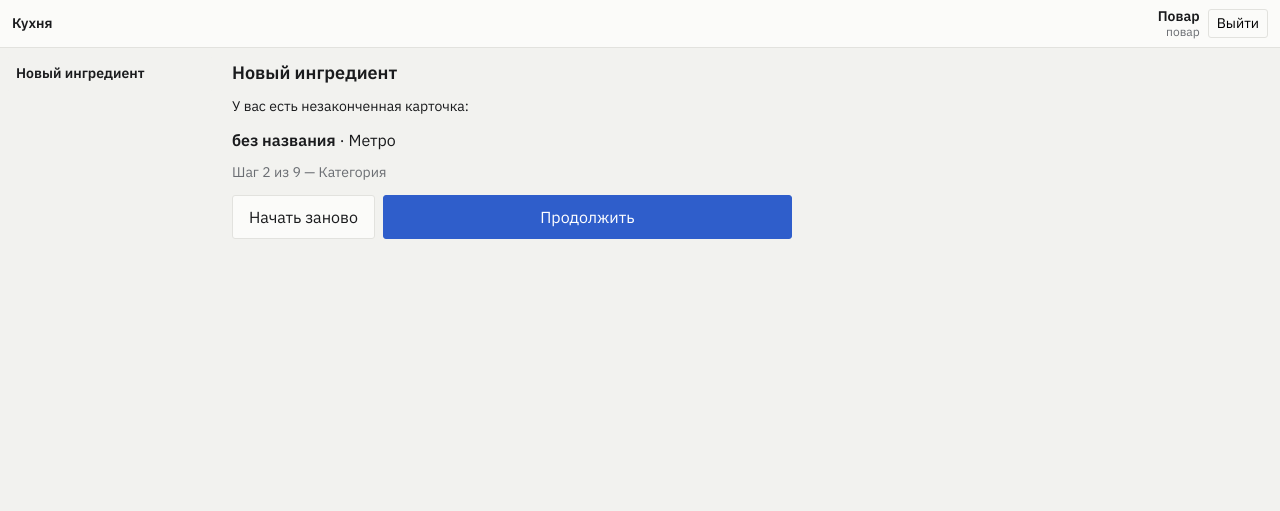
«Другая…» принимает свою категорию
Click the button "Продолжить" at (587, 217), box [383,195,792,239]
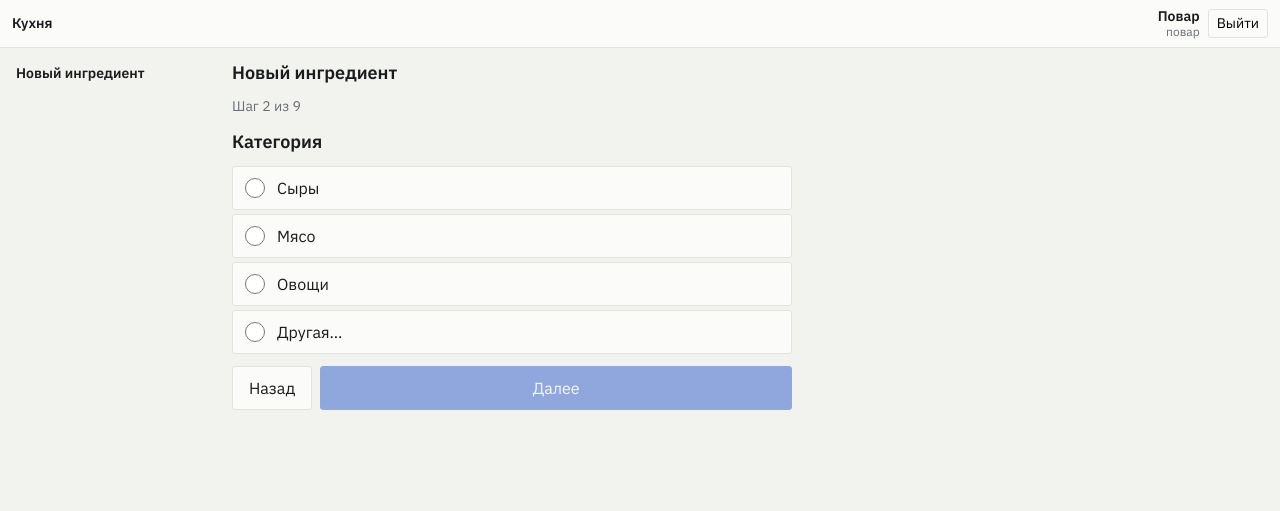
Now the radio button labelled "Сыры" is shown, box [245,178,265,198]
Now the button "Далее" is disabled, box [320,366,792,410]
Click the radio button labelled "Другая…" at (255, 332), box [245,322,265,342]
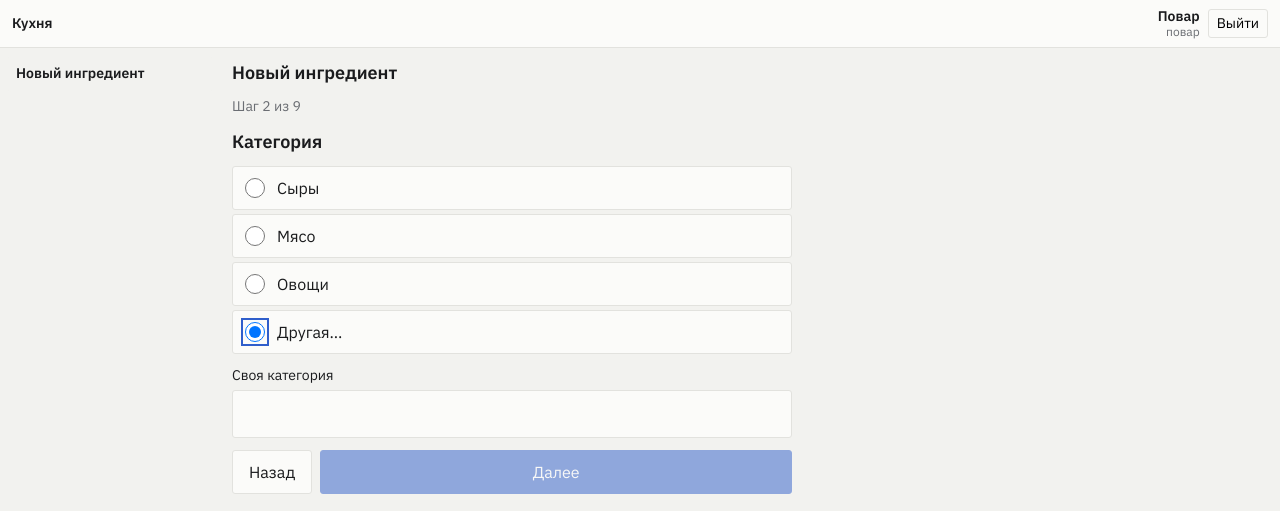
Now the button "Далее" is disabled, box [320,450,792,494]
Type "Заморозка" into the field labelled "Своя категория" at (512, 414), box [232,390,792,438]
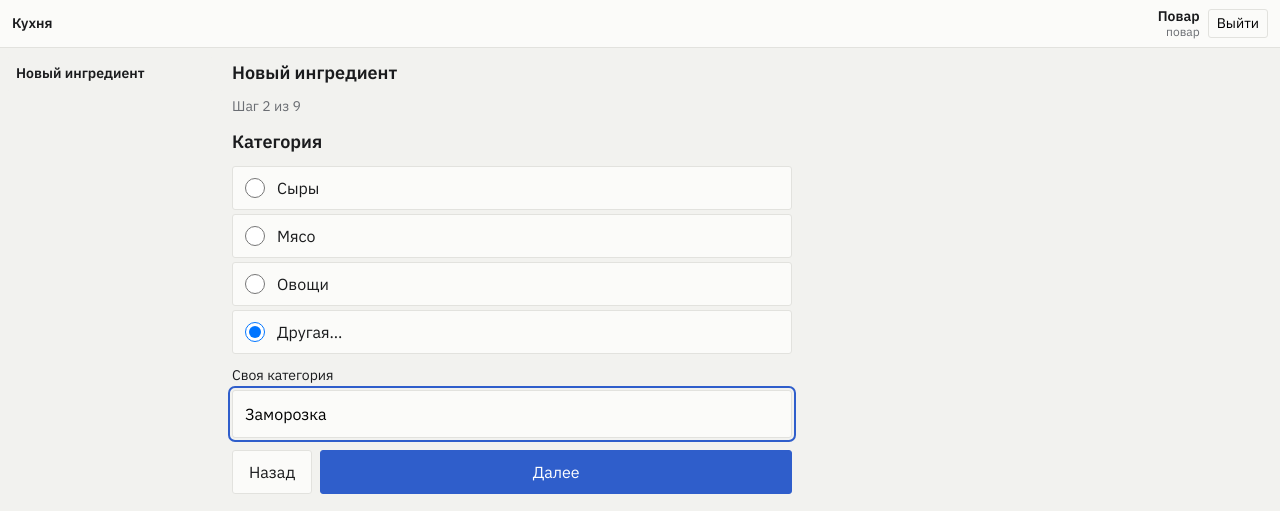
Now the button "Далее" is enabled
Click the button "Далее" at (556, 472), box [320,450,792,494]
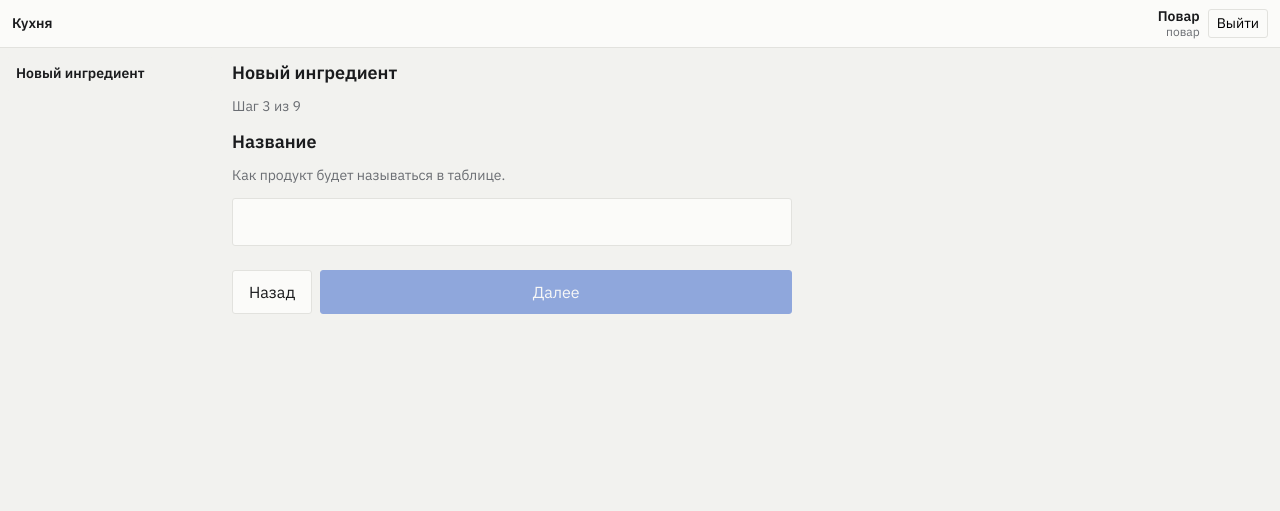
Now the text "Шаг 3 из 9" is shown, box [232,97,301,115]
